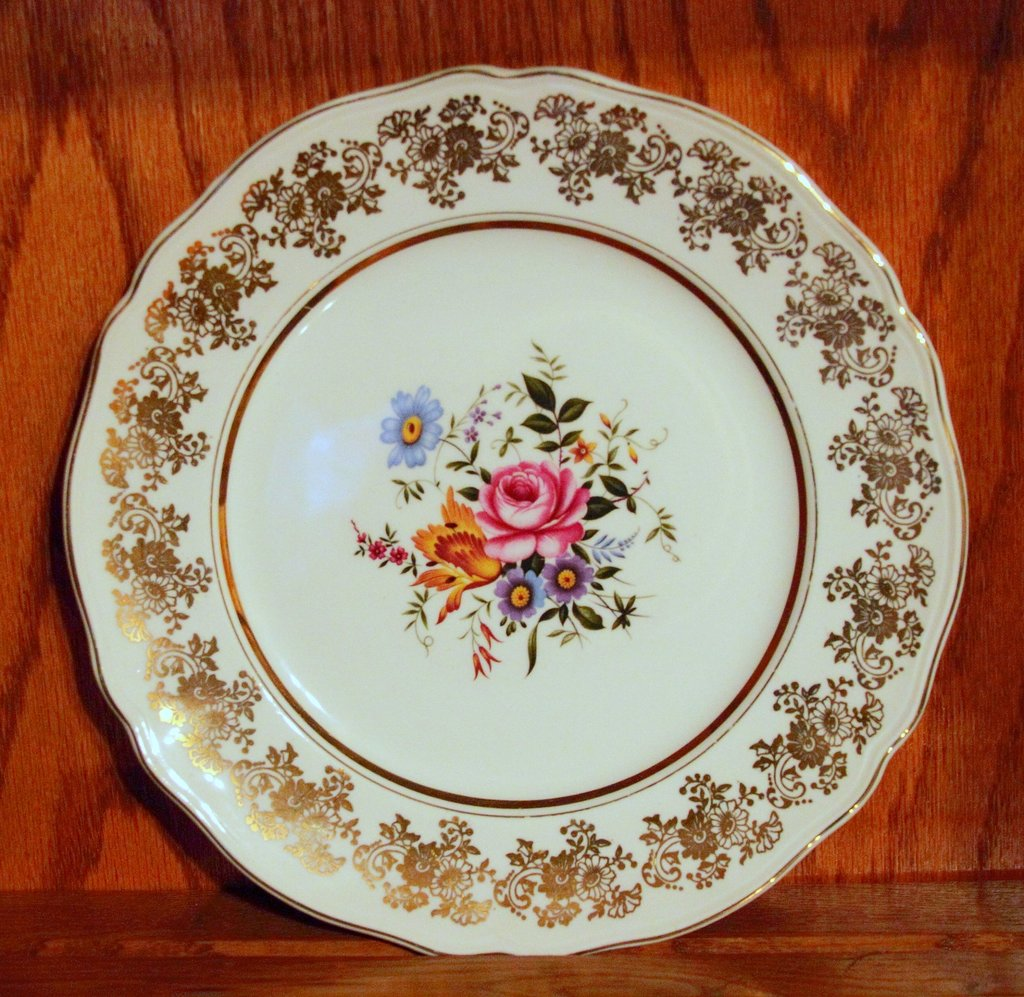plate: (61, 60, 967, 955)
